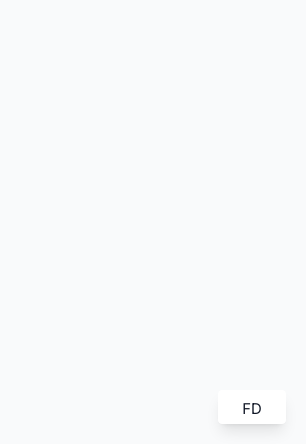
hotkey Ctrl+J stashes interrupt
Press j
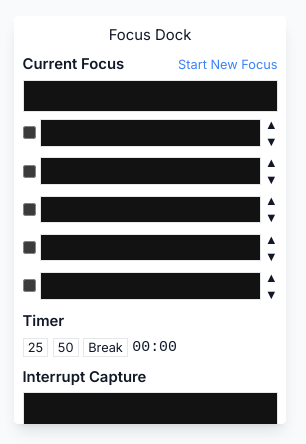
In the text box: (150, 418) [22,392,278,443], type "note"
(page scrolled)
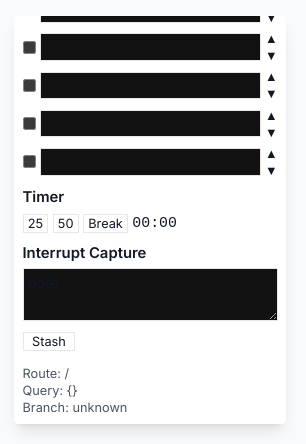
Click the button "Stash": (49, 341) [22,332,75,350]
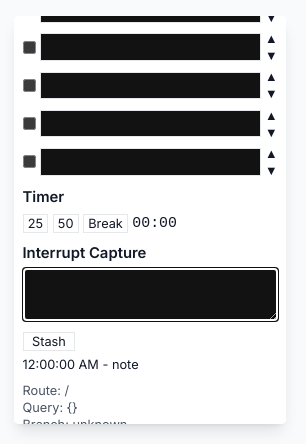
expect the list item "12:00:00 AM - note" is shown: met, box [22,357,139,372]
